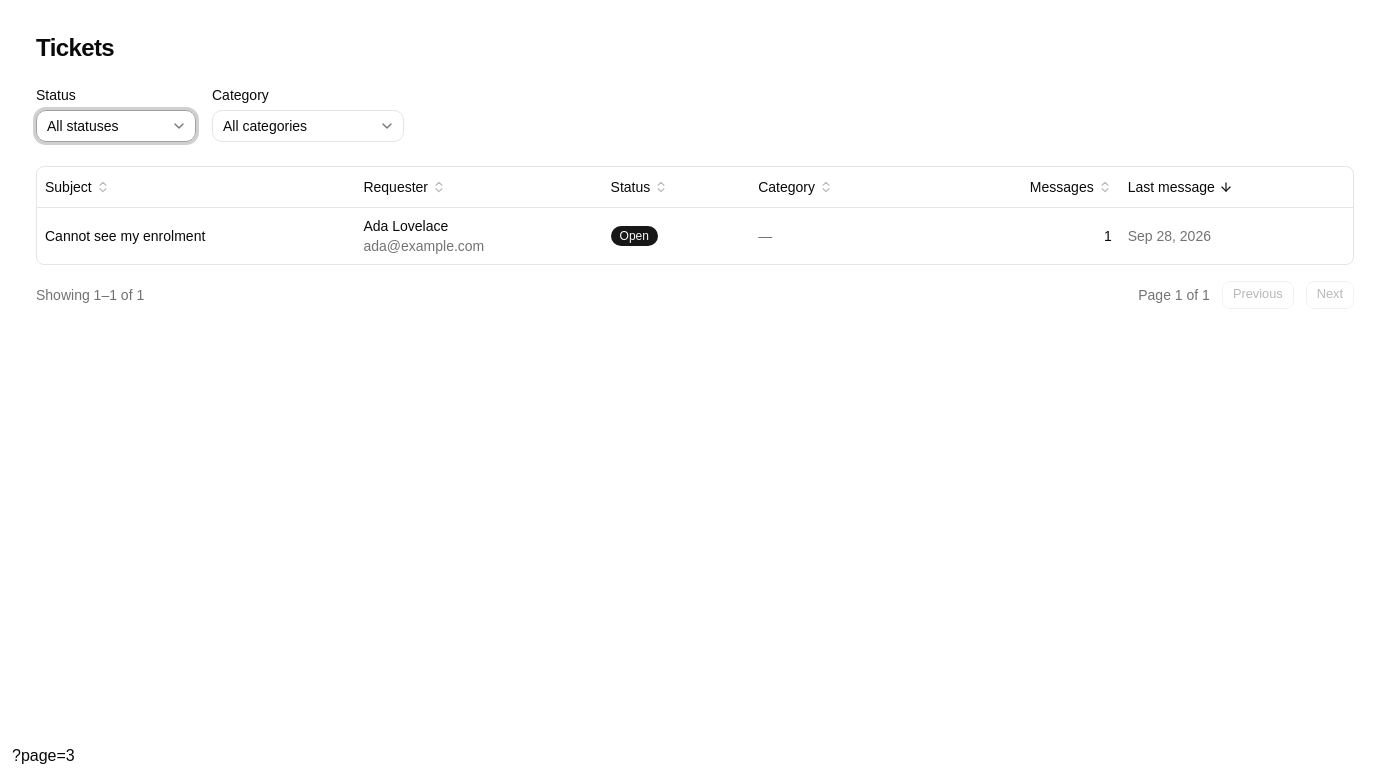
TicketsPage › filters by status through the select and drops the page
Press Arrowdown
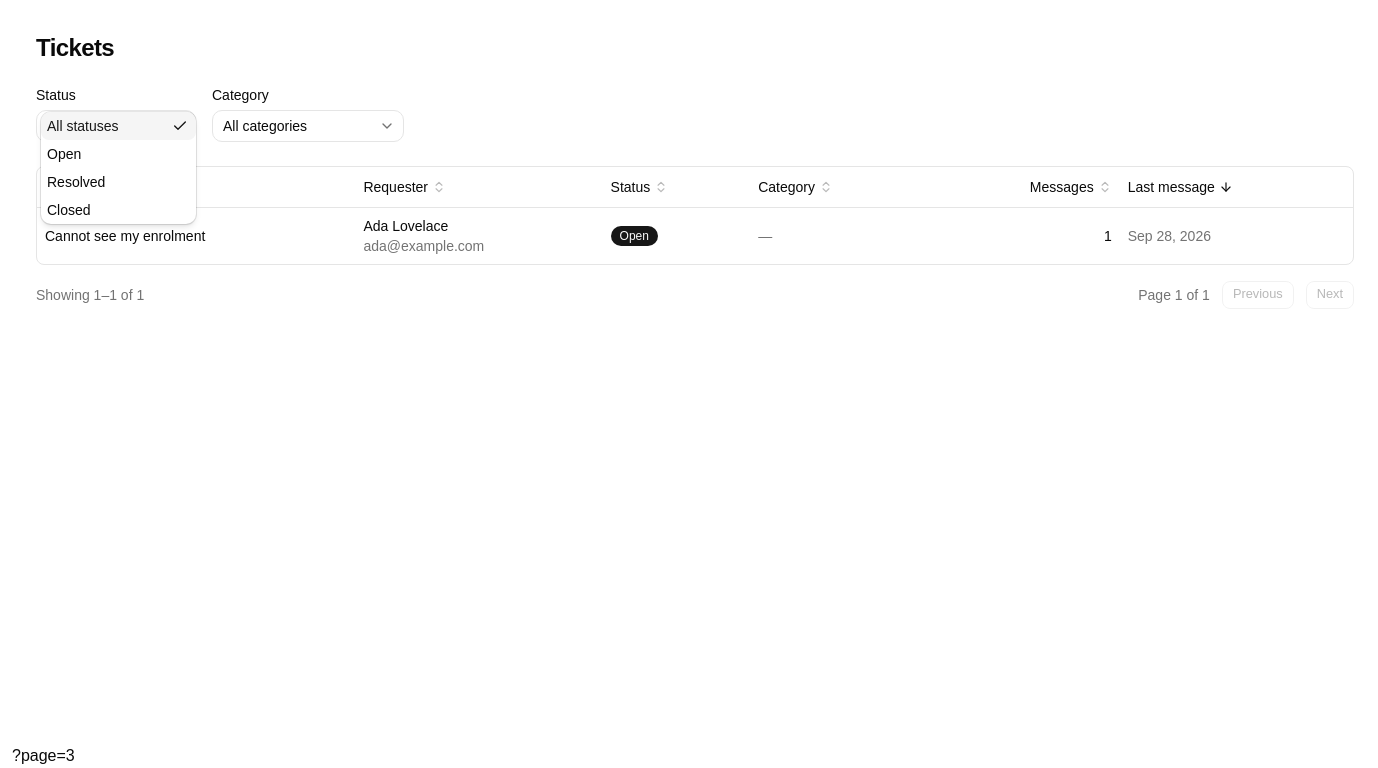
Click the option "Open": coordinates (64, 154) [47,146,81,162]
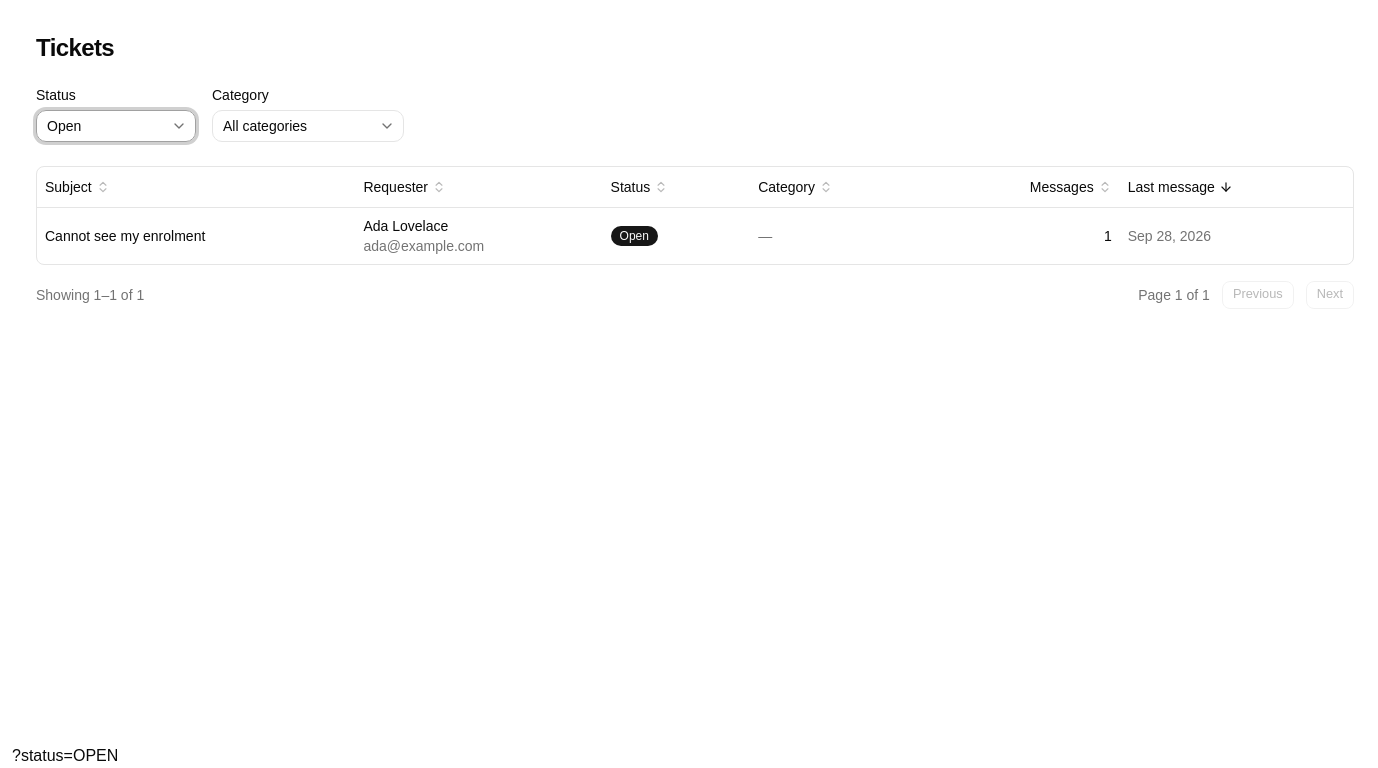
Check: the text with test id "location-search" reads "?status=OPEN", box [12,747,118,764]
